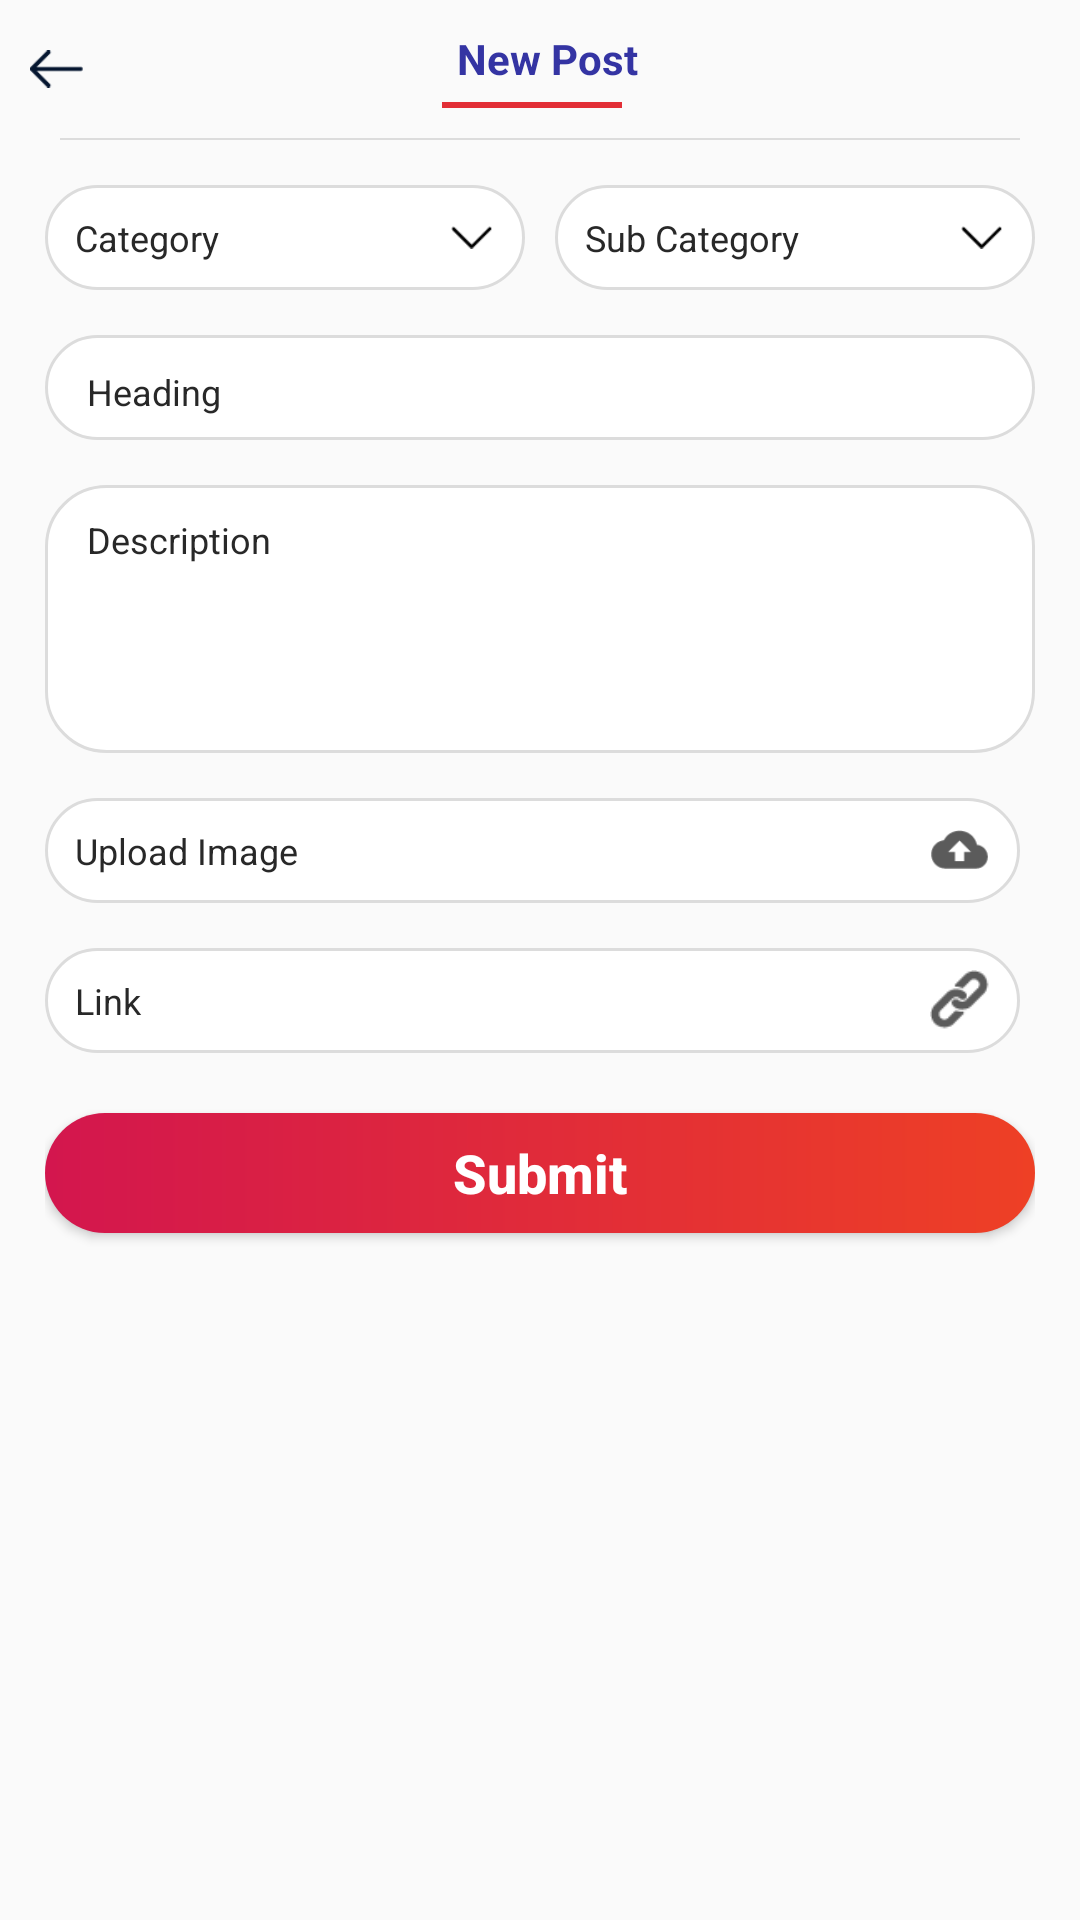

Named icons in this screenshot (1080*1920) and their centers, [x,y]:
back: [56,69]
down arrow: [471,237], [981,237]
